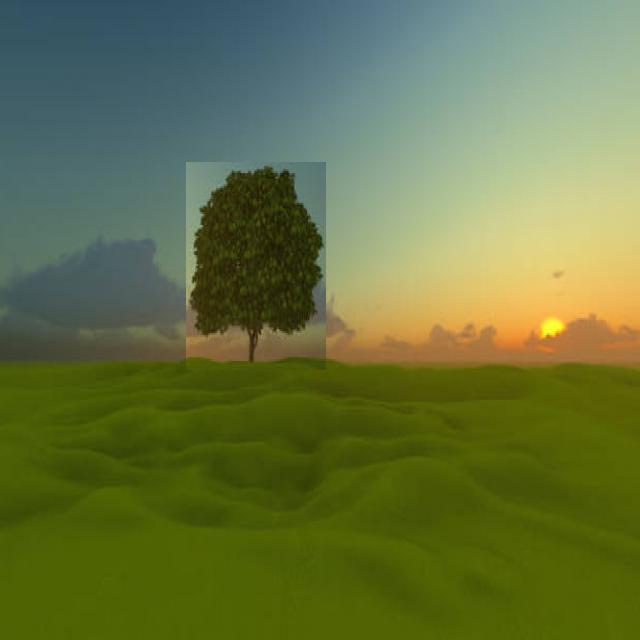tree: (186, 162, 326, 370)
